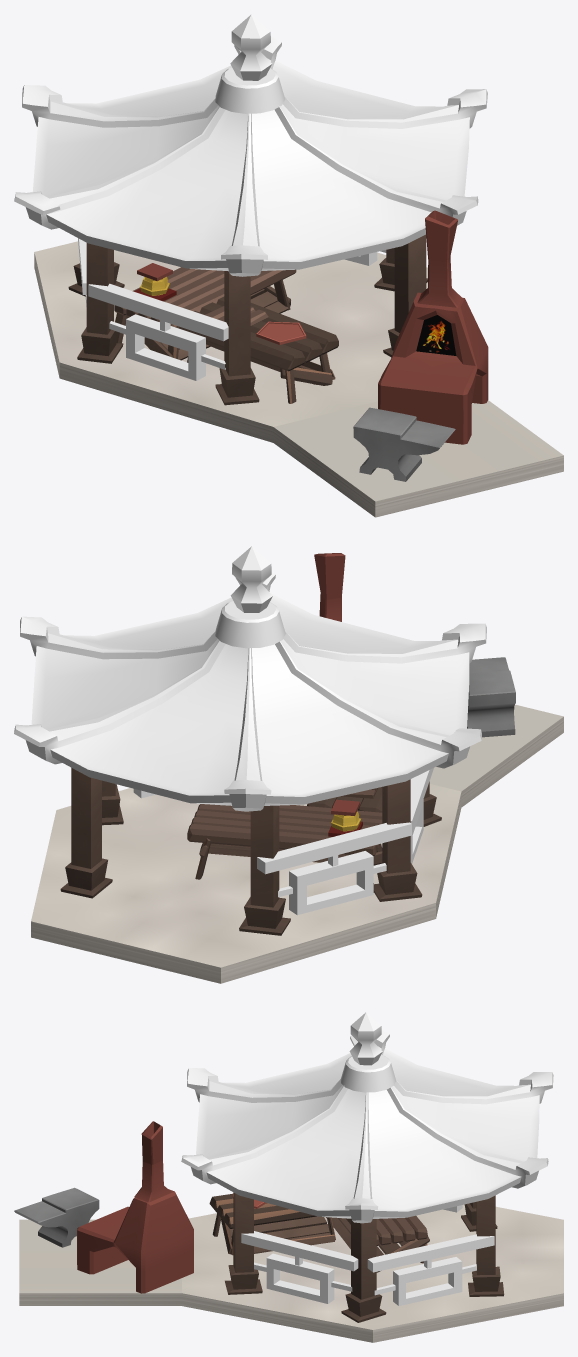
Rendered from Royal_blacksmith.fbx.
3 renders of one model, top to bottom at view 1: azimuth 30°, elevation 25°; view 2: azimuth 150°, elevation 25°; view 3: azimuth 270°, elevation 25°, orthographic. The views are drawn at different scales.
Visible parts, largest first — view 1: royal; view 2: royal; view 3: royal.
Boxes of the visible parts, bbox=[...] form: royal: bbox=[14, 14, 563, 517]; royal: bbox=[14, 546, 563, 983]; royal: bbox=[14, 1012, 563, 1342].
Size of the model in its own units: 6.26 by 4.13 by 8.01.
